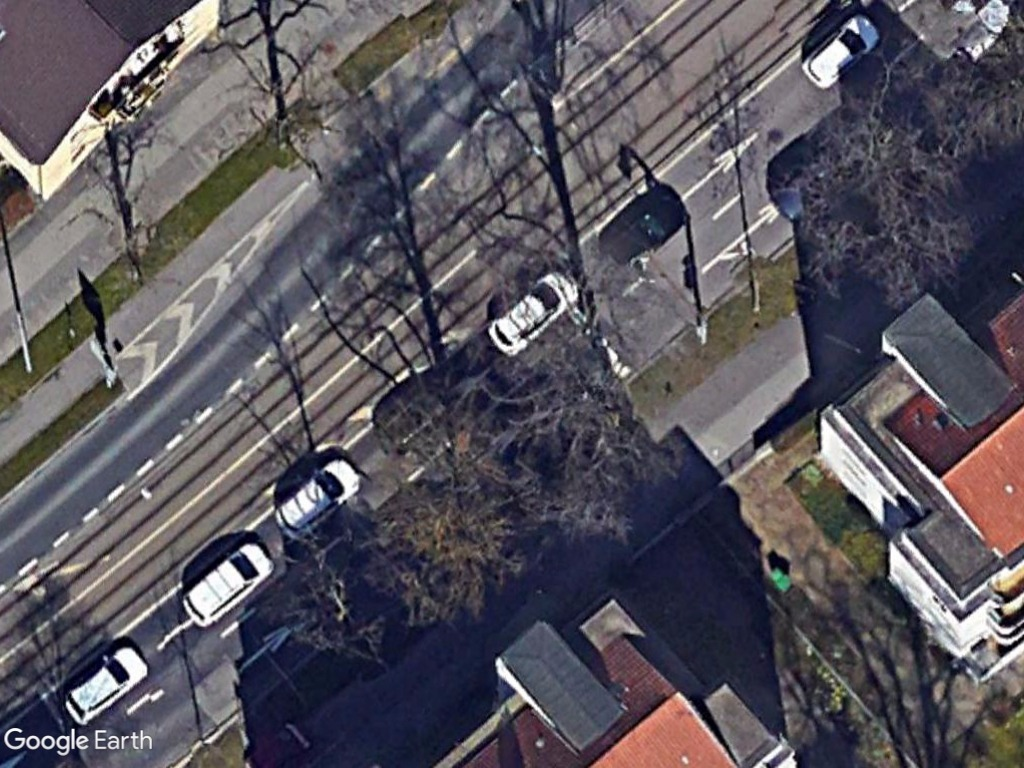car: (182, 540, 277, 633), (484, 269, 576, 359), (271, 453, 362, 542), (60, 641, 153, 726), (797, 11, 881, 91)
